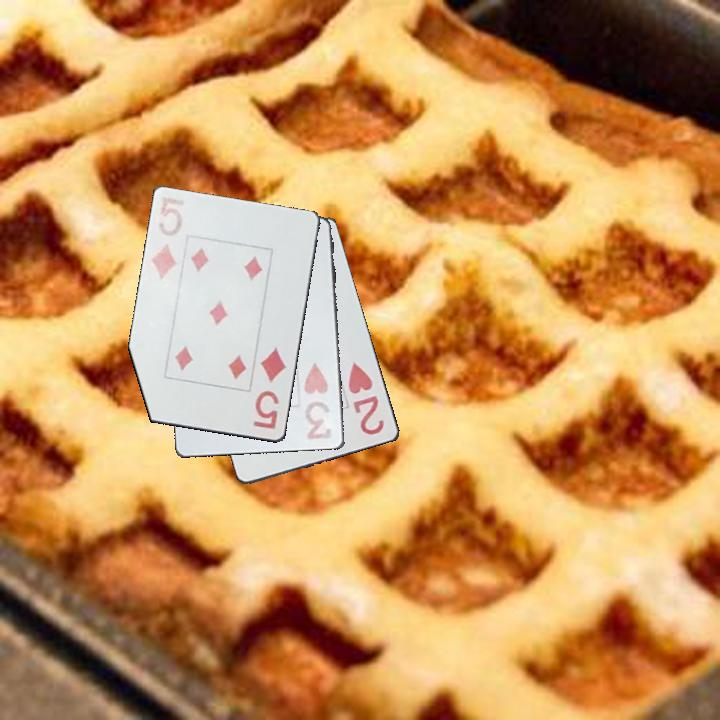2h: (345, 358, 387, 438)
3h: (301, 360, 336, 442)
5d: (250, 344, 289, 433), (147, 204, 186, 283)
